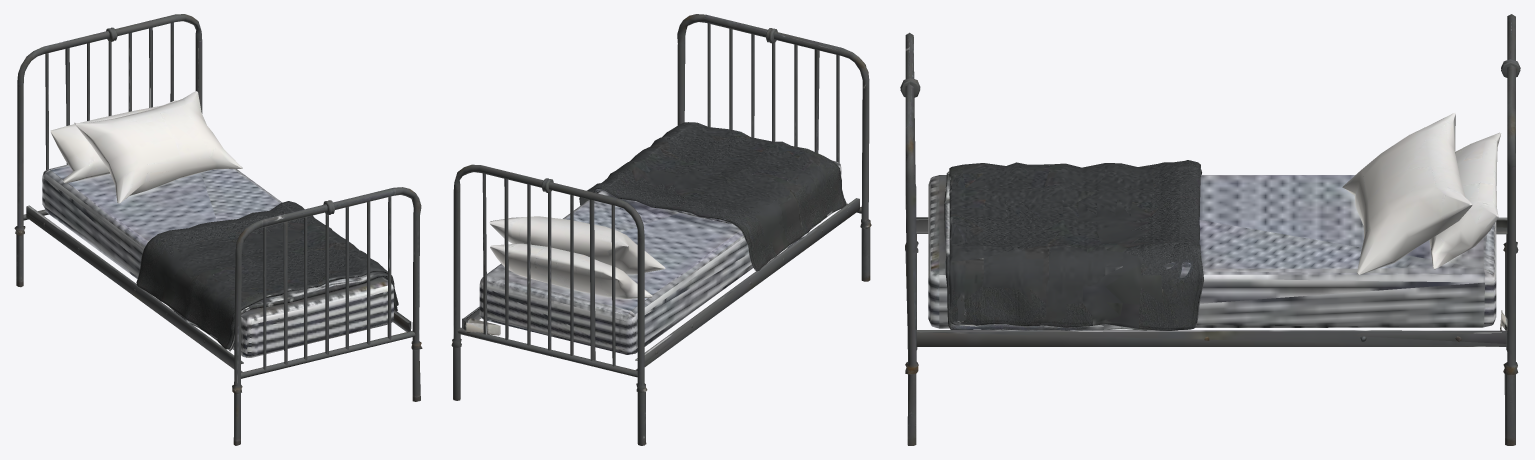
The model's file is cell_bunk.glb.
3 views of the same model, side by side, from view 1: azimuth 30°, elevation 25°; view 2: azimuth 150°, elevation 25°; view 3: azimuth 270°, elevation 25° (orthographic). The views are drawn at different scales.
Bounding box in the file's own units: 0.946 × 1.13 × 1.95.
Materials: 1 (1 with a texture image).
